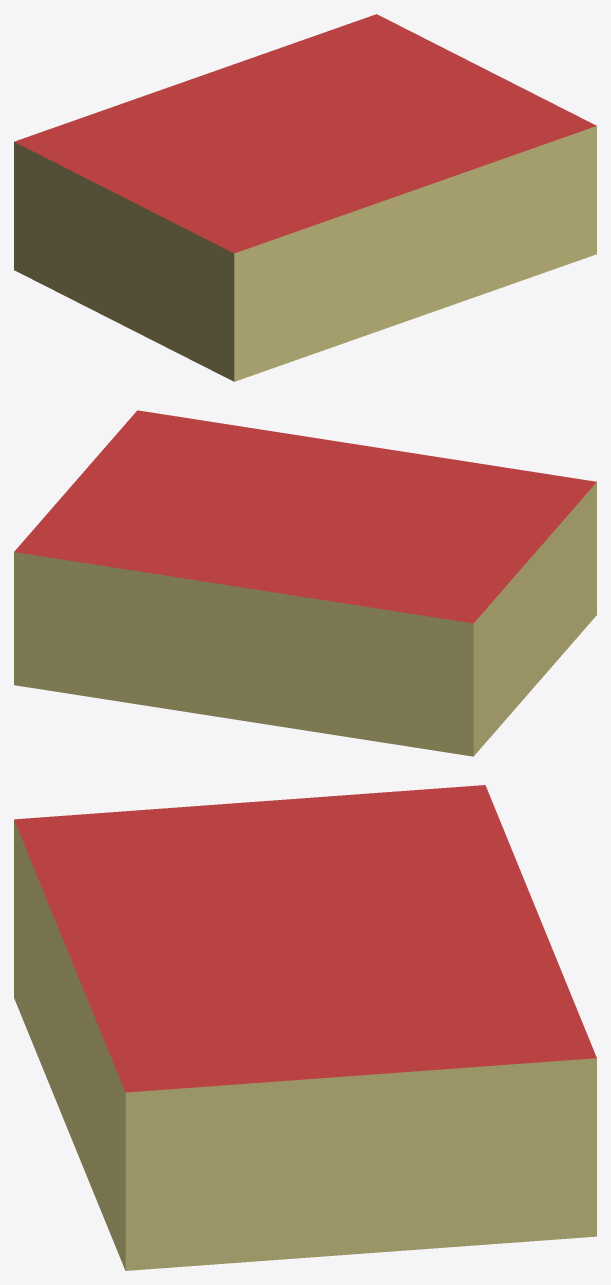
3 views of the same model, one above another, from view 1: azimuth 30°, elevation 25°; view 2: azimuth 150°, elevation 25°; view 3: azimuth 270°, elevation 25° (orthographic). The views are drawn at different scales.
Bounding box in the file's own units: 18.17 × 14.56 × 4.92.
